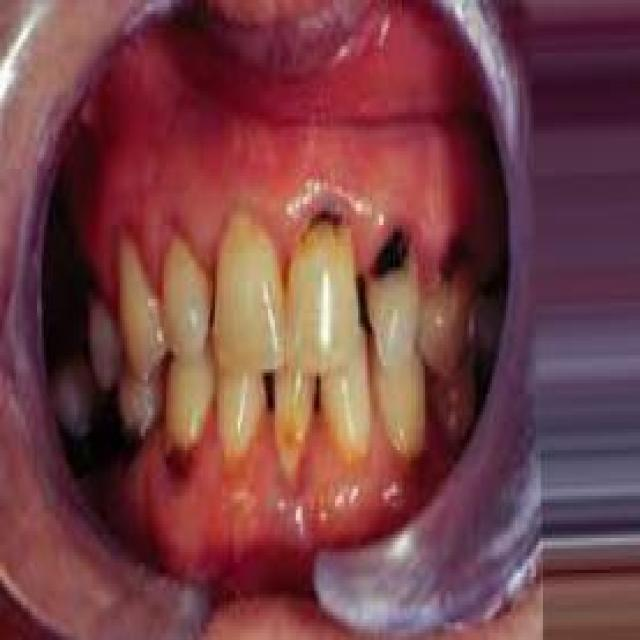caries: (359, 207, 416, 297), (290, 182, 352, 252), (153, 428, 204, 505)
